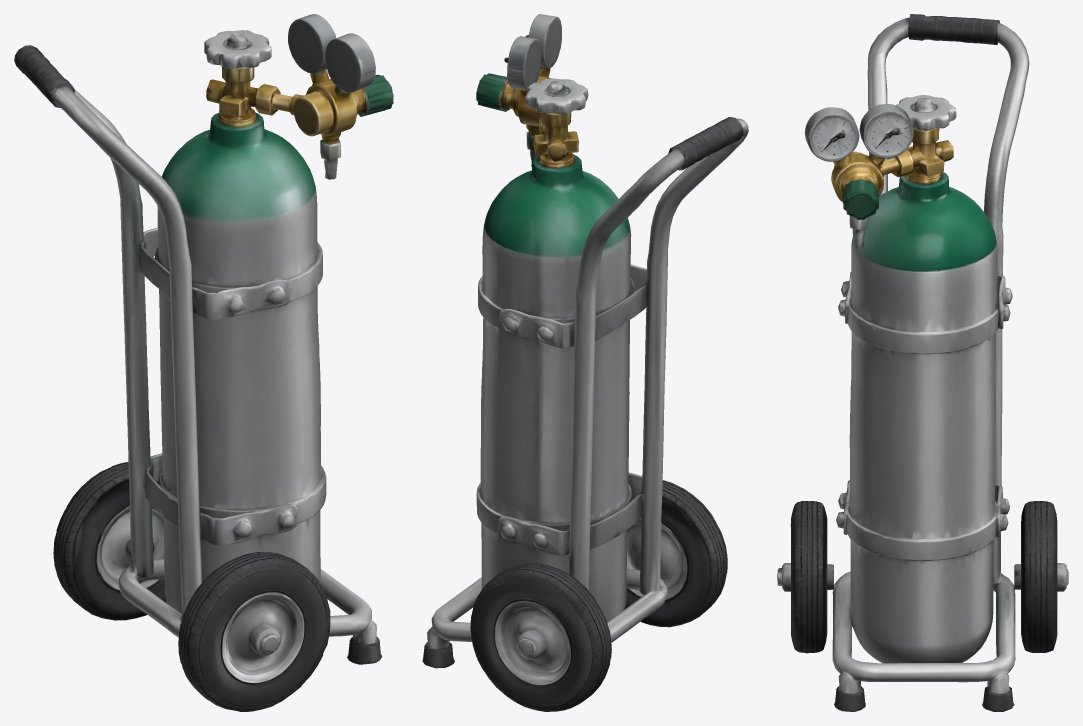
File: oxygen-cylinder.glb
The picture shows the model from 3 angles, left to right: view 1: azimuth 30°, elevation 25°; view 2: azimuth 150°, elevation 25°; view 3: azimuth 270°, elevation 25°; orthographic projection. The views are drawn at different scales.
Visible parts, largest first — view 1: oxygen-cylinder; view 2: oxygen-cylinder; view 3: oxygen-cylinder.
Boxes of the visible parts, x1,y1,x2,y2 form: oxygen-cylinder: (14, 14, 393, 711); oxygen-cylinder: (422, 14, 748, 711); oxygen-cylinder: (777, 14, 1068, 711).
Bounding box in the file's own units: 0.7097 × 1.4 × 0.6315.
1 material, 1 textured.
